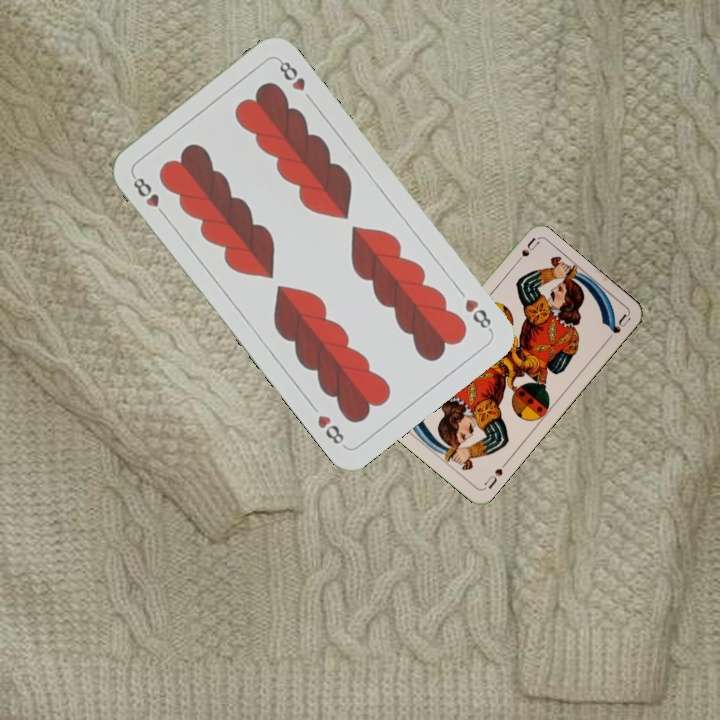H8: (128, 172, 170, 221), (460, 294, 495, 334)
SU: (508, 235, 541, 270), (480, 458, 510, 492)
